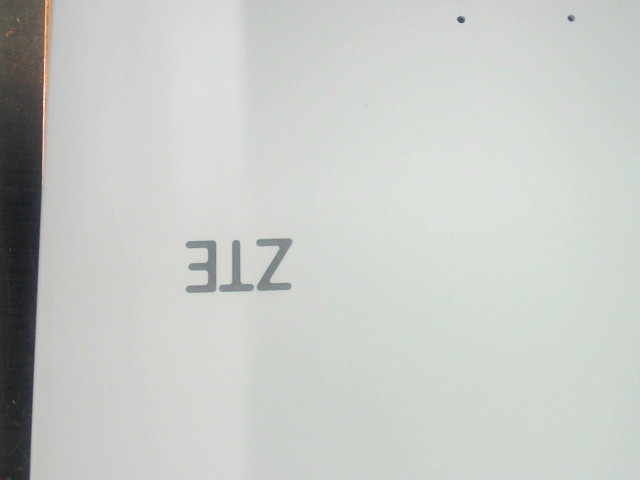AO_ZTESmall: (175, 228, 300, 302)
